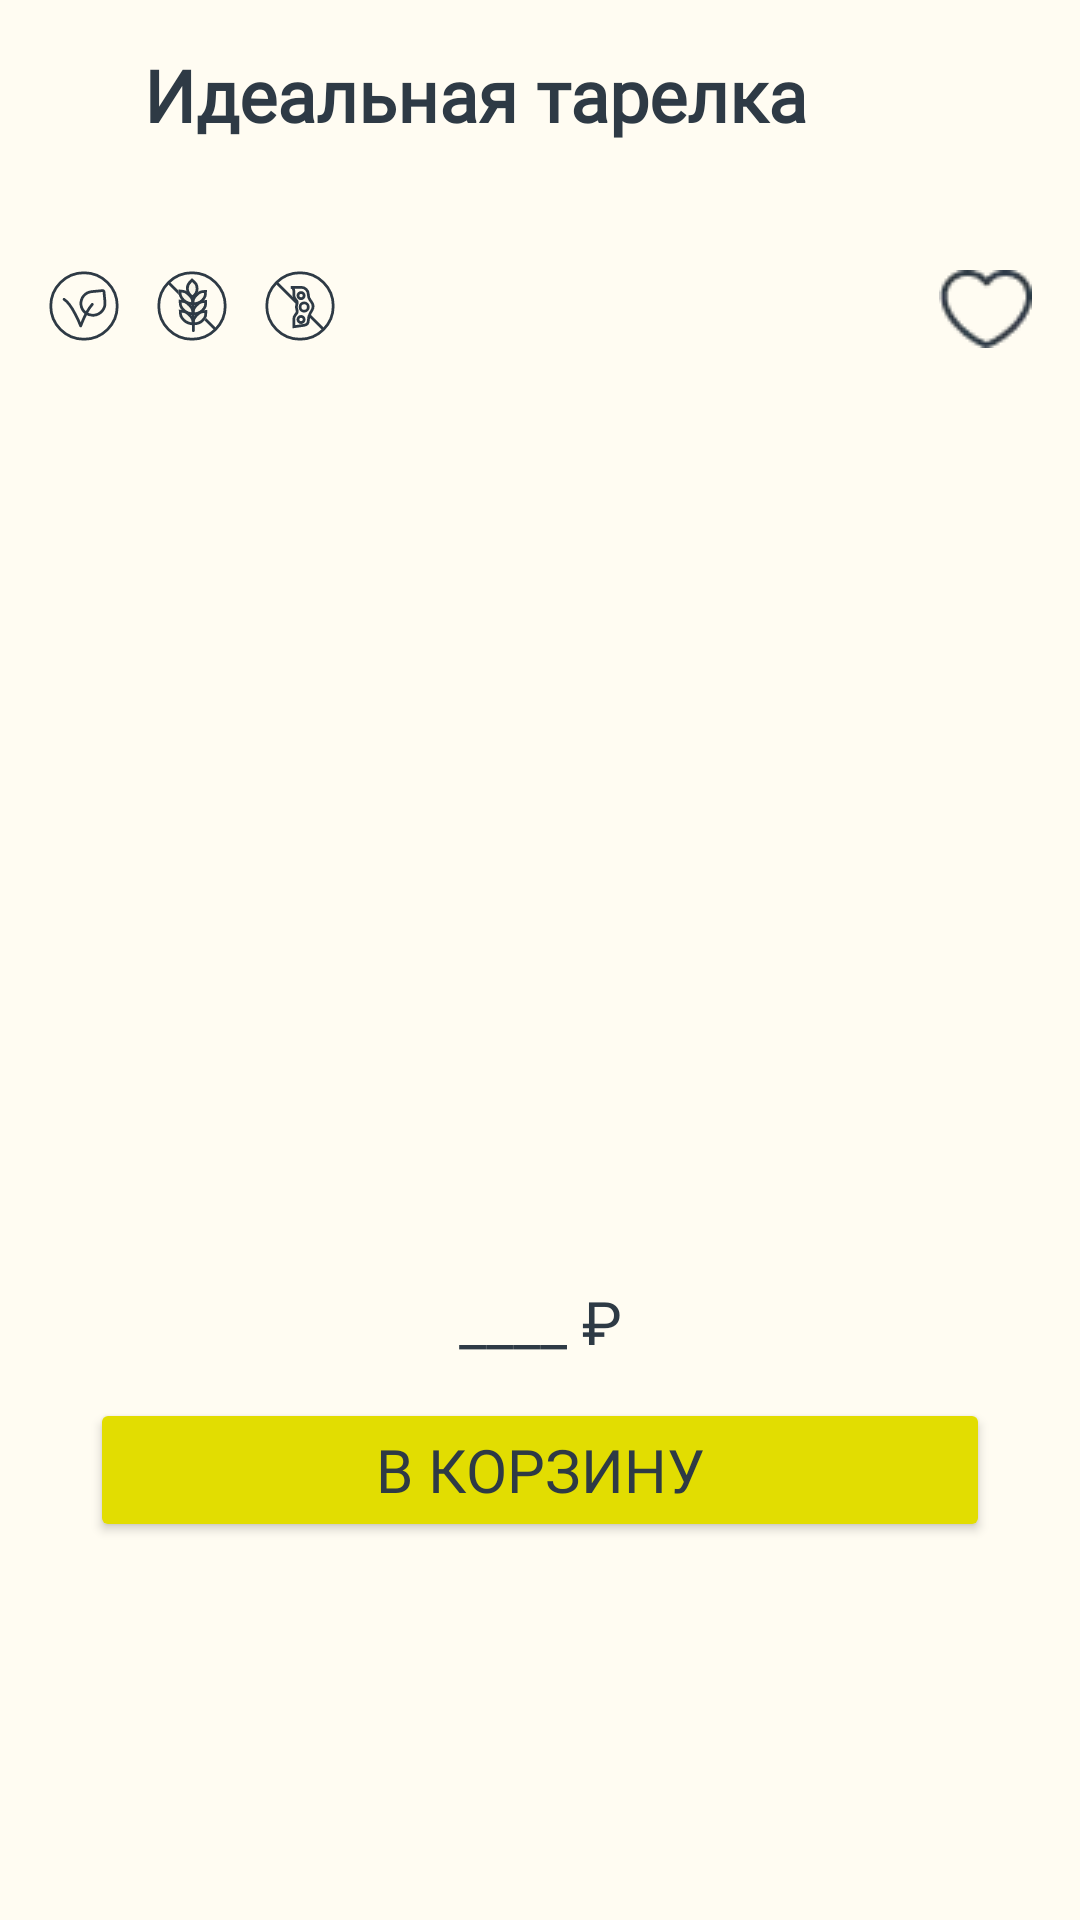

Named icons in this screenshot (1080px x 1920px) and their centers, (x=x, y=y):
like: (x=985, y=309)
